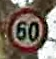limite 60: (6, 7, 47, 52)
